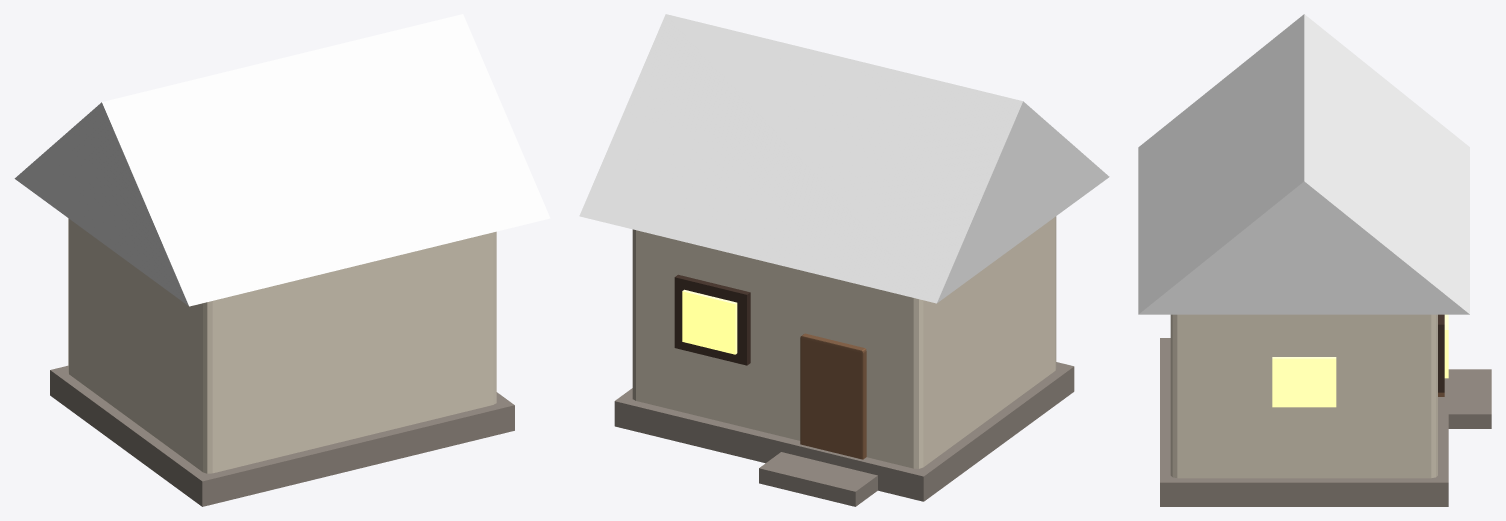
Rendered from cottage_small.glb.
The picture shows the model from 3 angles, left to right: view 1: azimuth 30°, elevation 25°; view 2: azimuth 150°, elevation 25°; view 3: azimuth 270°, elevation 25°; orthographic projection. The views are drawn at different scales.
Parts seen in each view (by area): view 1: roof, Cube, Cube.001; view 2: roof, Cube, Cube.001, Cube.002, Cube.006, Cube.004, Cube.003; view 3: roof, Cube, Cube.001, Cube.005, Cube.006, Cube.003.
Part boxes in pixels (left/top/right/bottom): roof: left=14, top=14, right=550, bottom=306; Cube: left=68, top=218, right=496, bottom=473; Cube.001: left=50, top=365, right=514, bottom=506; roof: left=579, top=14, right=1109, bottom=303; Cube: left=632, top=216, right=1056, bottom=468; Cube.001: left=614, top=362, right=1074, bottom=501; Cube.002: left=800, top=333, right=866, bottom=459; Cube.006: left=759, top=452, right=877, bottom=506; Cube.004: left=682, top=289, right=737, bottom=354; Cube.003: left=674, top=274, right=750, bottom=365; roof: left=1138, top=14, right=1469, bottom=314; Cube: left=1170, top=314, right=1437, bottom=478; Cube.001: left=1160, top=338, right=1448, bottom=506; Cube.005: left=1272, top=357, right=1336, bottom=407; Cube.006: left=1448, top=369, right=1491, bottom=428; Cube.003: left=1438, top=314, right=1444, bottom=392.
Size of the model in its own units: 1.48 by 1.39 by 1.32.
